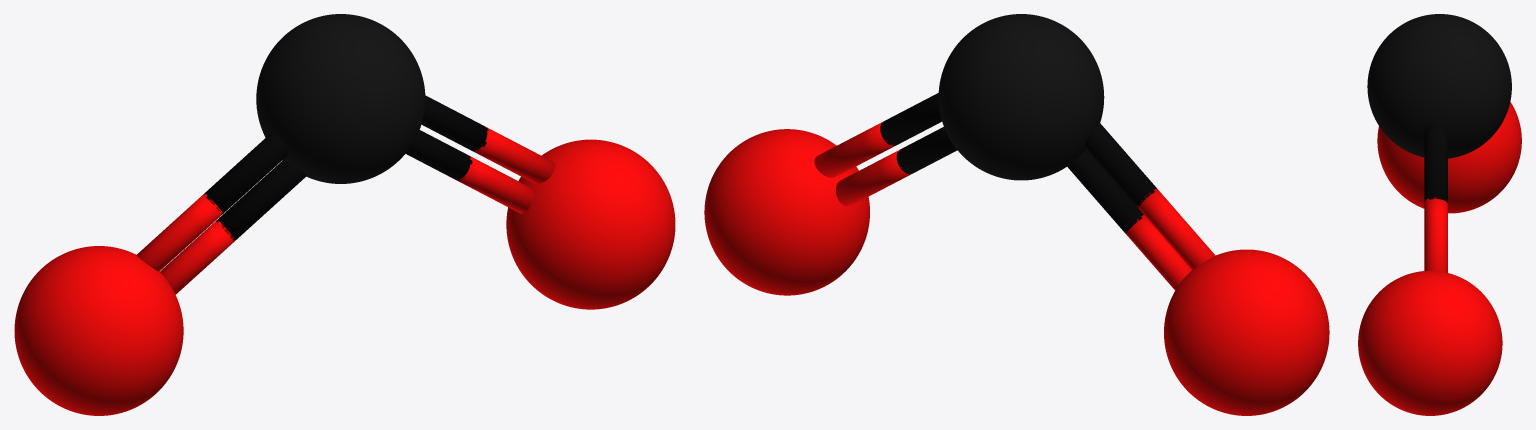
Rendered from carbon_dioxide_co2.glb.
3 renders of one model, left to right at view 1: azimuth 30°, elevation 25°; view 2: azimuth 150°, elevation 25°; view 3: azimuth 270°, elevation 25°, orthographic. The views are drawn at different scales.
Visible parts, largest first — view 1: Sphere.002_0, Sphere.003_2, Sphere.001_1, Cylinder.003_6, Cylinder.002_5, Cylinder.007_3, Cylinder.001_4; view 2: Sphere.002_0, Sphere.003_2, Sphere.001_1, Cylinder.003_6, Cylinder.002_5, Cylinder.007_3, Cylinder.001_4; view 3: Sphere.001_1, Sphere.003_2, Sphere.002_0, Cylinder.007_3.
Part boxes in pixels (x1,y1,x2,y2): Sphere.002_0: (14,246,183,415); Sphere.003_2: (256,14,425,183); Sphere.001_1: (506,139,675,309); Cylinder.003_6: (136,133,287,271); Cylinder.002_5: (160,160,306,294); Cylinder.007_3: (421,95,555,183); Cylinder.001_4: (405,130,533,213); Sphere.002_0: (1164,249,1329,415); Sphere.003_2: (938,14,1104,180); Sphere.001_1: (704,129,869,295); Cylinder.003_6: (1085,122,1215,269); Cylinder.002_5: (1067,149,1191,290); Cylinder.007_3: (814,93,941,177); Cylinder.001_4: (836,127,957,206); Sphere.001_1: (1358,270,1502,415); Sphere.003_2: (1367,14,1511,158); Sphere.002_0: (1377,102,1521,213); Cylinder.007_3: (1424,123,1447,272).
Size of the model in its own units: 15.59 by 7.98 by 4.13.
